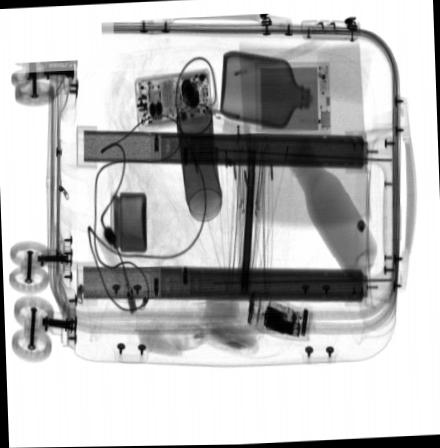Powerbank: (254, 61, 330, 134)
